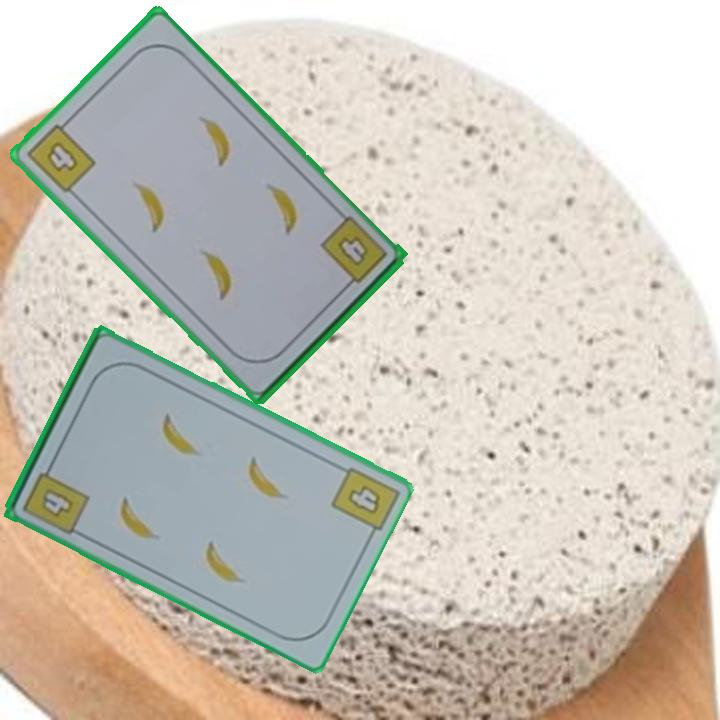4b: (23, 114, 99, 196), (316, 212, 391, 293), (19, 457, 92, 538), (344, 481, 384, 518)
